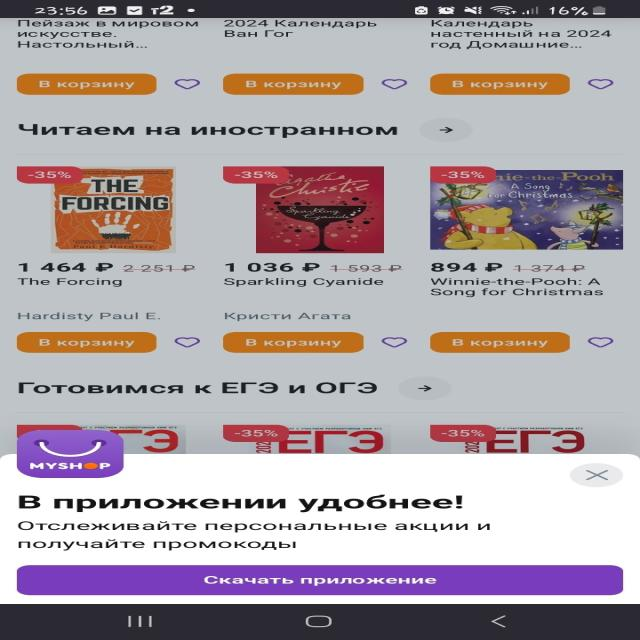button: (20, 563, 622, 595), (573, 463, 618, 486)
site: (0, 454, 640, 603)
